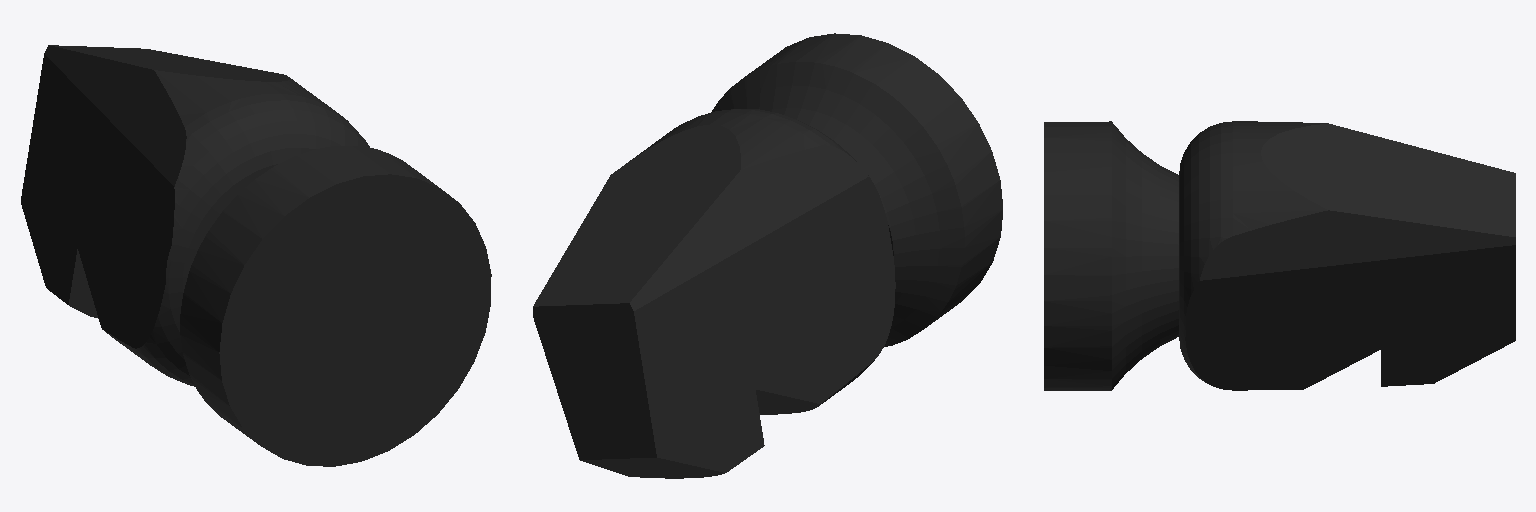
robot.urdf — jaran:
<?xml version="1.0" encoding="utf-8"?>
<robot name="jaran">
  <link name="base_link">
    <inertial>
      <origin xyz="4.79904925043684E-06 0.0174746975557619 1.79671111603941E-05" rpy="0 0 0" />
      <mass value="0.0120164146277105" />
      <inertia
        ixx="1.96991136313716E-06" ixy="4.61982066145161E-09" ixz="-3.04490688432334E-08"
        iyy="6.48940622104474E-07" iyz="1.72089600129848E-08"
        izz="1.86463419010765E-06" />
    </inertial>
    <visual>
      <origin xyz="0 0 0" rpy="0 0 0" />
      <geometry>
        <mesh filename="package://board_new/meshes/jaran1.STL" />
      </geometry>
      <material name="">
        <color rgba="0.2 0.2 0.2 1" />
      </material>
    </visual>
    <collision>
      <origin xyz="0 0 0" rpy="0 0 0" />
      <geometry>
        <mesh filename="package://board_new/meshes/jaran1.STL" />
      </geometry>
    </collision>
  </link>
  <gazebo reference="base_link">
    <mu1>0.5</mu1>
    <mu2>0.5</mu2>
    <material>Gazebo/DarkGrey</material>
  </gazebo>
</robot>

--- Facts derived from the render (not from the file) ---
Views: 3 orthographic renders of the robot side by side, from view 1: azimuth 30°, elevation 25°; view 2: azimuth 150°, elevation 25°; view 3: azimuth 270°, elevation 25°.
Robot: jaran — 1 links, 0 joints (none); root link base_link; default pose: all joints at 0.
Visible links, largest first — view 1: base_link; view 2: base_link; view 3: base_link.
Link boxes in pixels (left/top/right/bottom): base_link: left=21, top=45, right=491, bottom=466; base_link: left=533, top=33, right=1002, bottom=478; base_link: left=1044, top=121, right=1515, bottom=390.
Size in the robot's own frame: 0.024 by 0.042 by 0.024 metres.
Meshes: 1 distinct files referenced, 1 mesh visuals loaded (1 binary STL).
